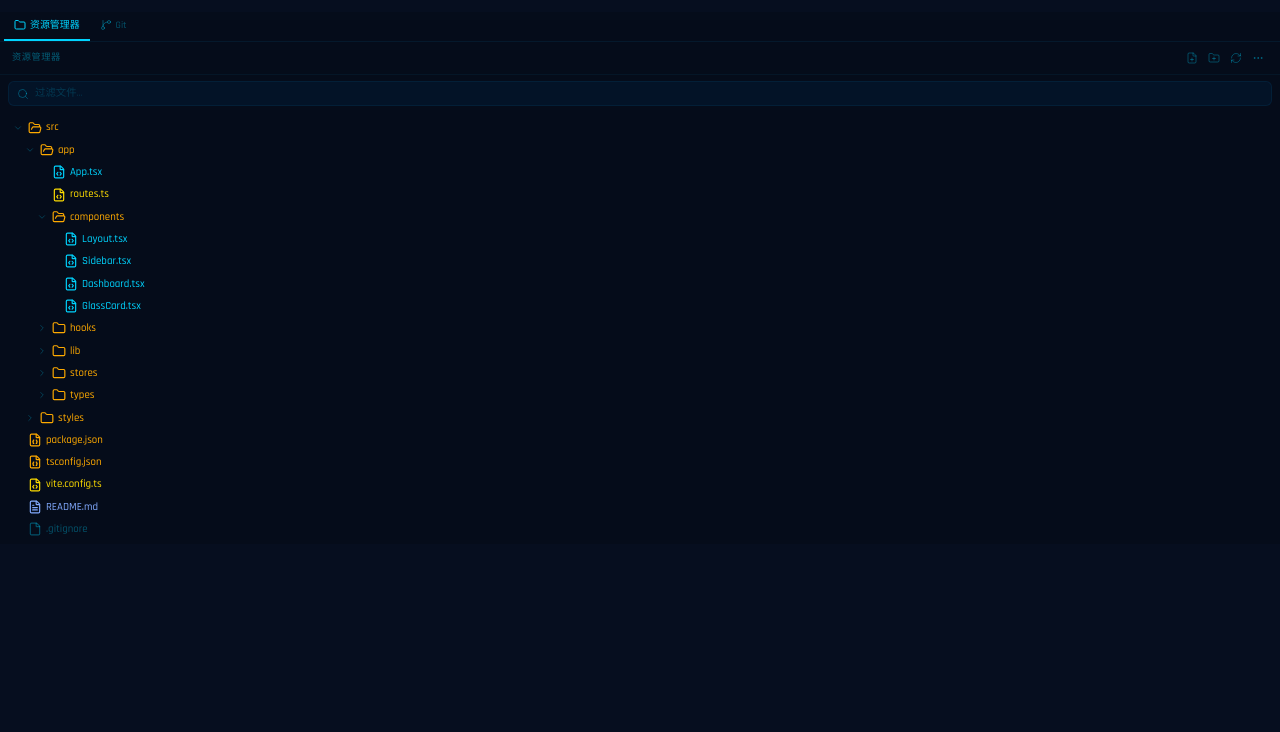
Test case: FileExplorer › 工具栏新建文件 → InlineInput 提交加入 src-app
Click the button titled "新建文件" at (1192, 58), box [1182,48,1202,68]
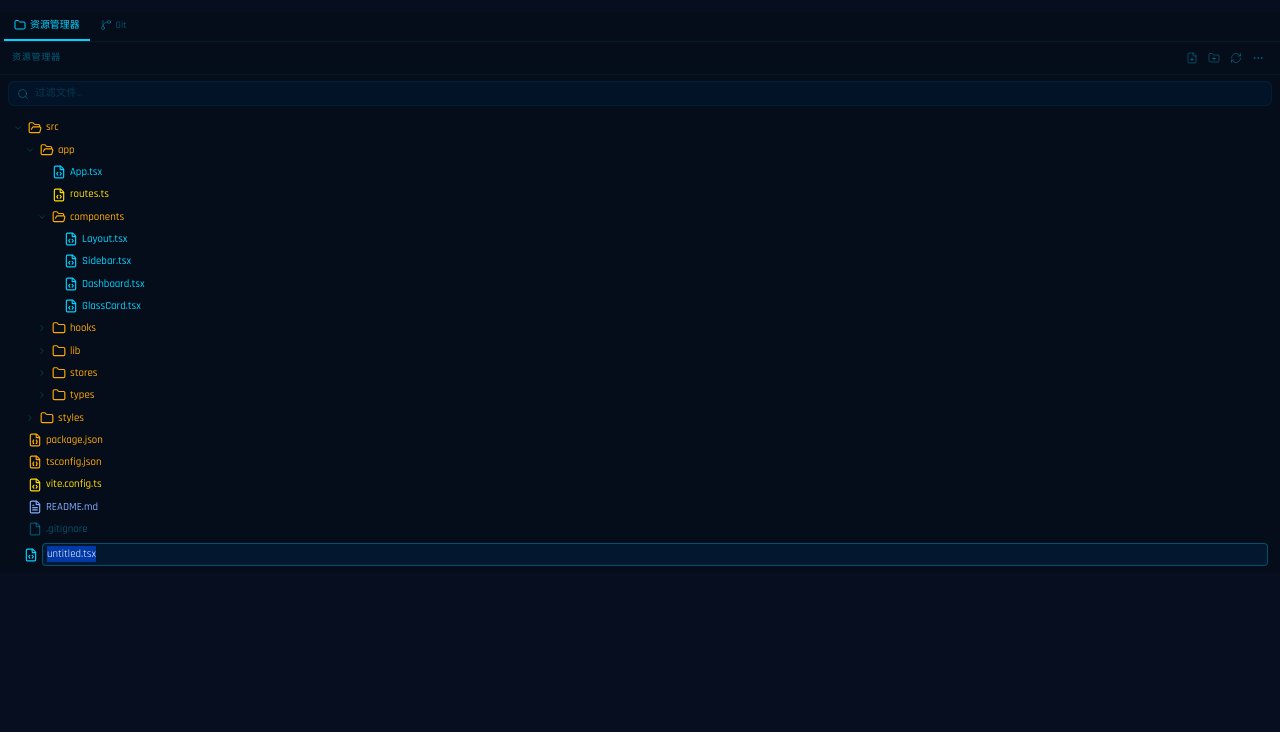
Replace the text in the field showing "untitled.tsx" with "Batch4.tsx" at (655, 555), box [42,543,1268,566]
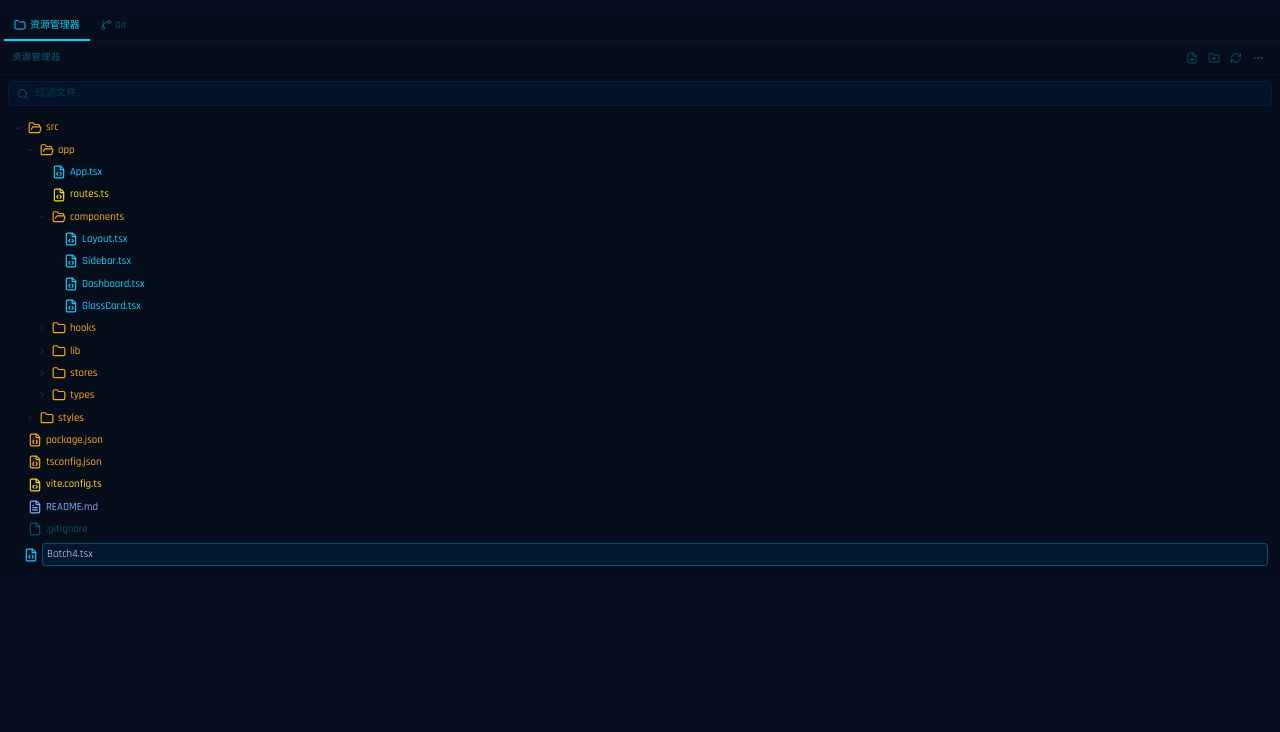
Press Enter in the field showing "untitled.tsx", box [42,543,1268,566]
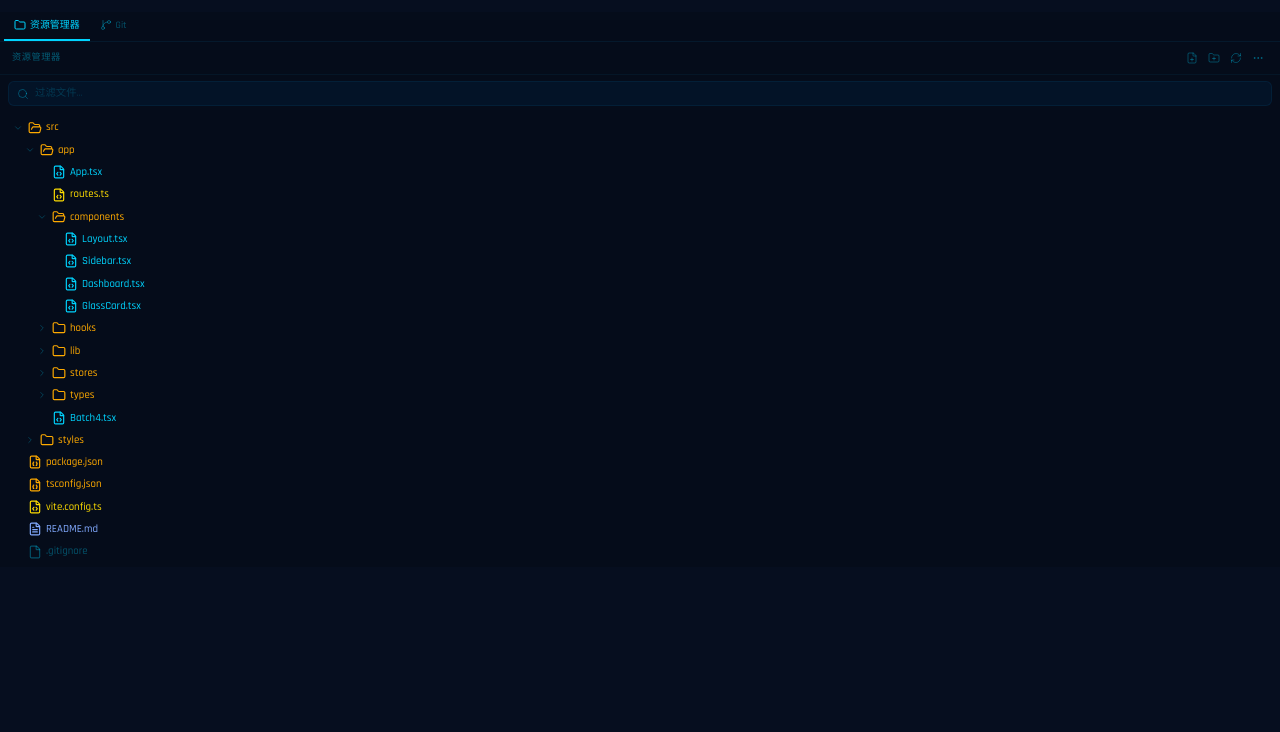
Expected: the text "Batch4.tsx" is shown, [70,410,116,424]
